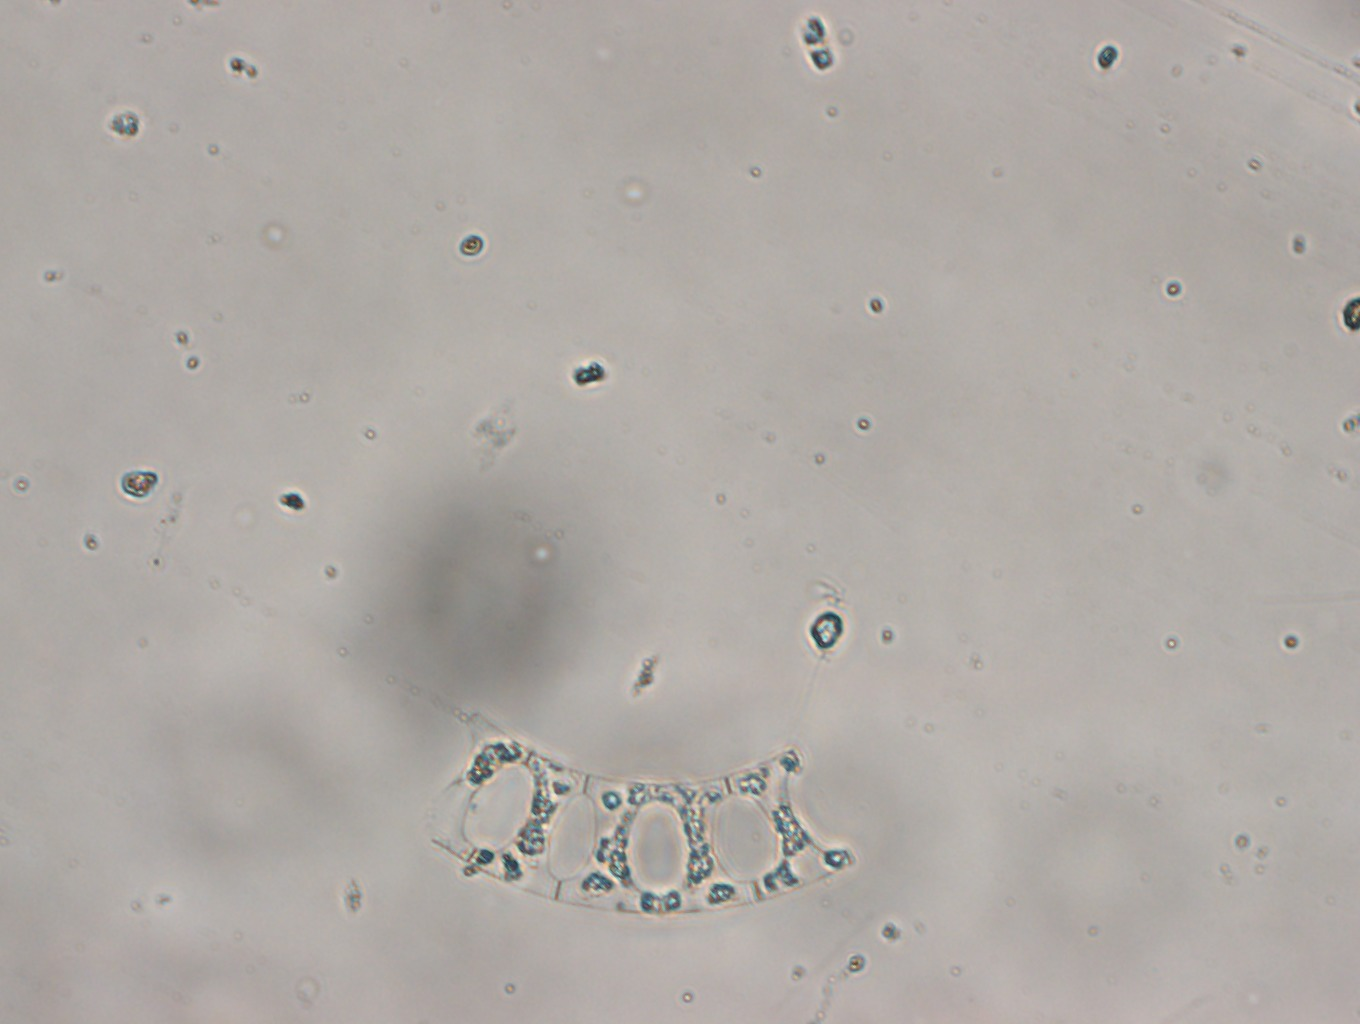eucampia: (425, 730, 856, 930)
